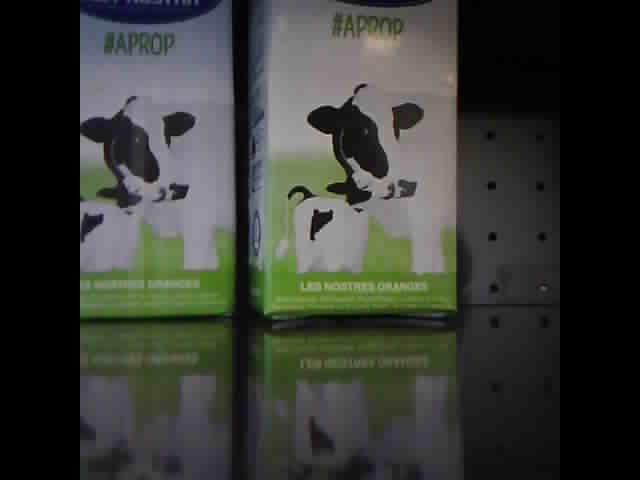leche: (246, 3, 457, 317), (81, 2, 235, 318)
